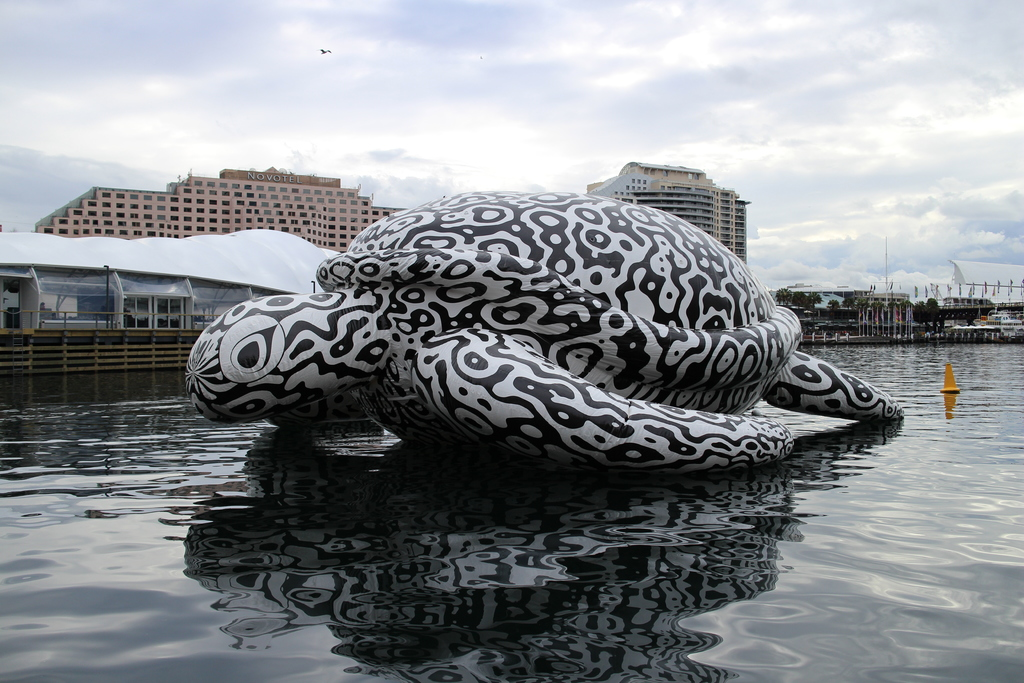Sea turtles: (186, 183, 903, 477)
